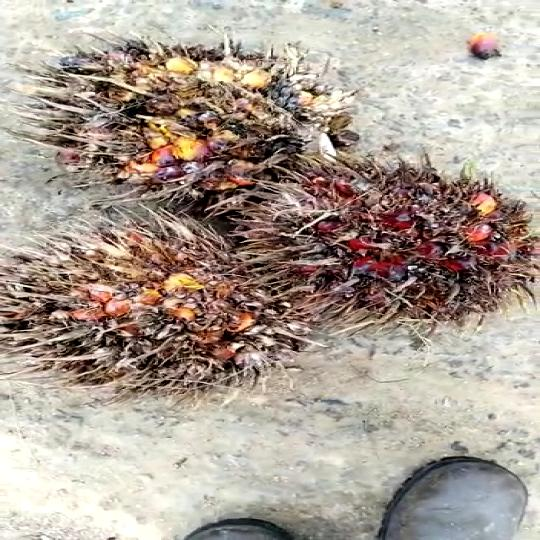terlalu masak: (25, 42, 359, 211), (226, 161, 540, 324), (0, 232, 311, 388)
